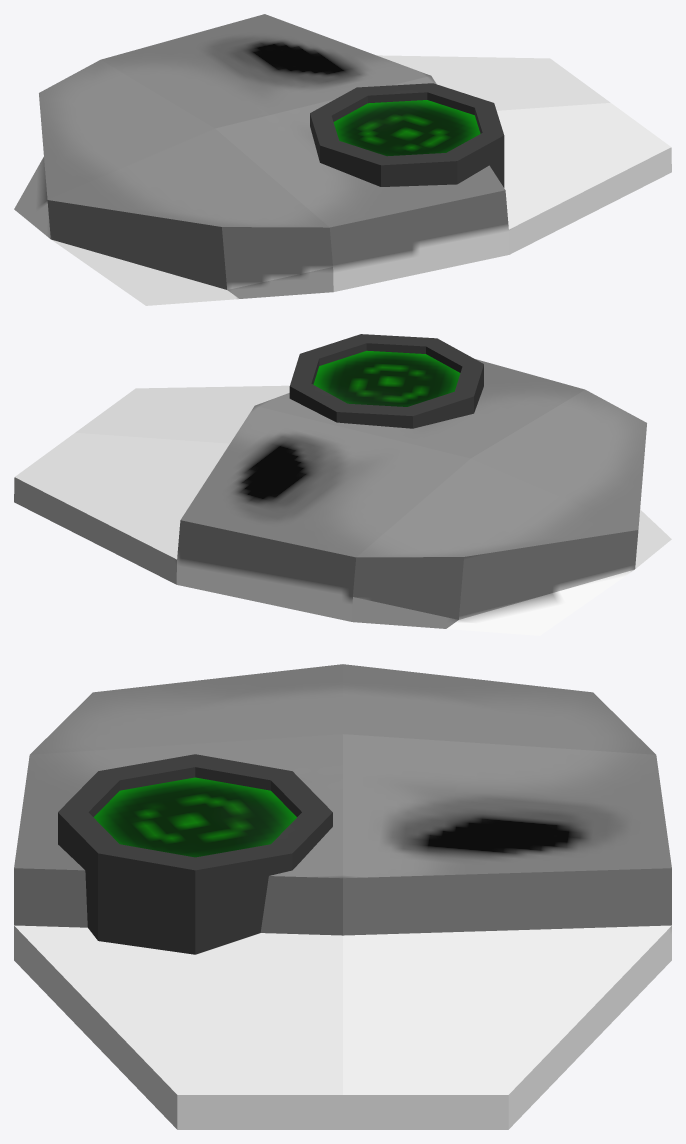
File: radar_mask.glb
3 renders of one model, top to bottom at view 1: azimuth 30°, elevation 25°; view 2: azimuth 150°, elevation 25°; view 3: azimuth 270°, elevation 25°, orthographic. The views are drawn at different scales.
Visible parts, largest first — view 1: Plane; view 2: Plane; view 3: Plane.
Part boxes in pixels (x1,y1,x2,y2): Plane: (14, 14, 671, 305); Plane: (14, 334, 671, 635); Plane: (14, 664, 671, 1129).
Size of the model in its own units: 2.7 by 0.4872 by 2.
Materials: 1 (1 with a texture image).
